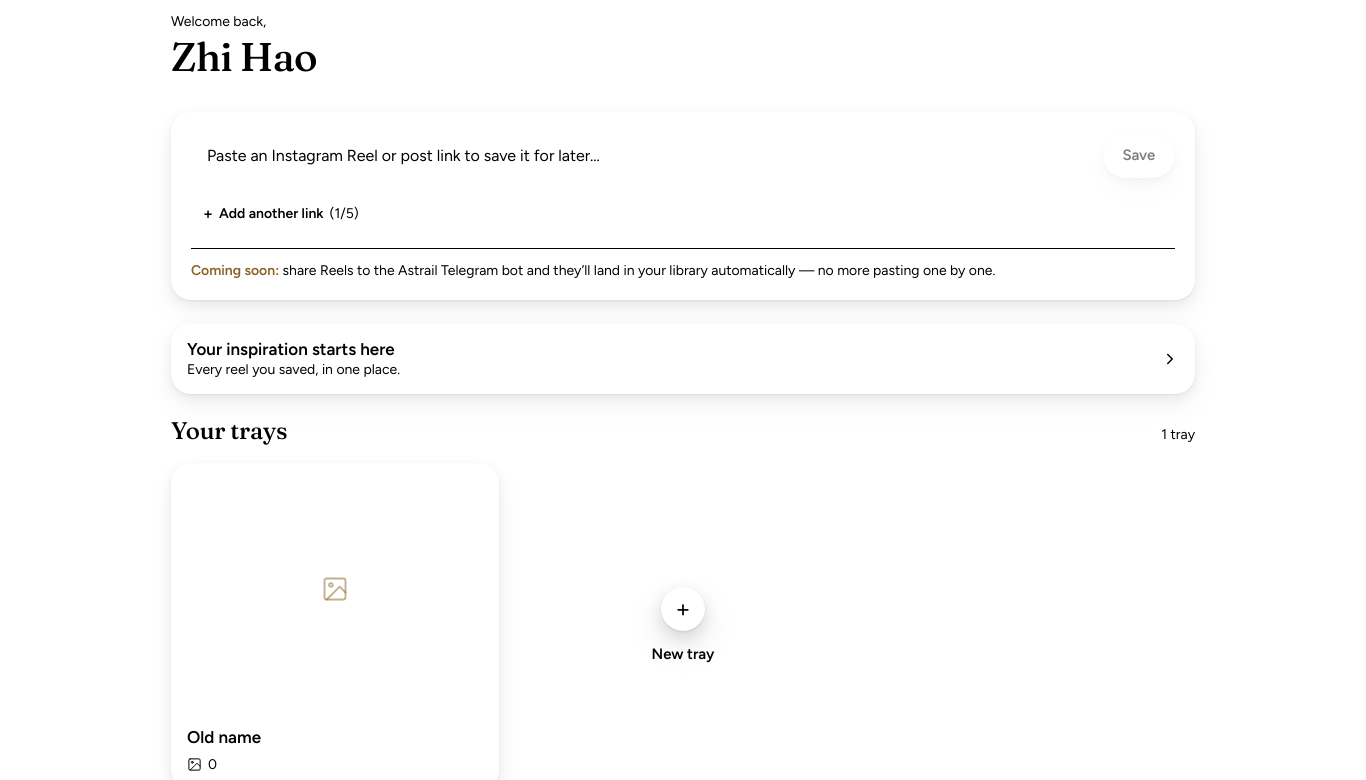
Scenario: TraysScreen › keeps the renamed name when the post-write refresh READ fails (reconciliation is load-bearing, C-new-2)
Click the button "Old name": (224, 737) [183,715,487,759]
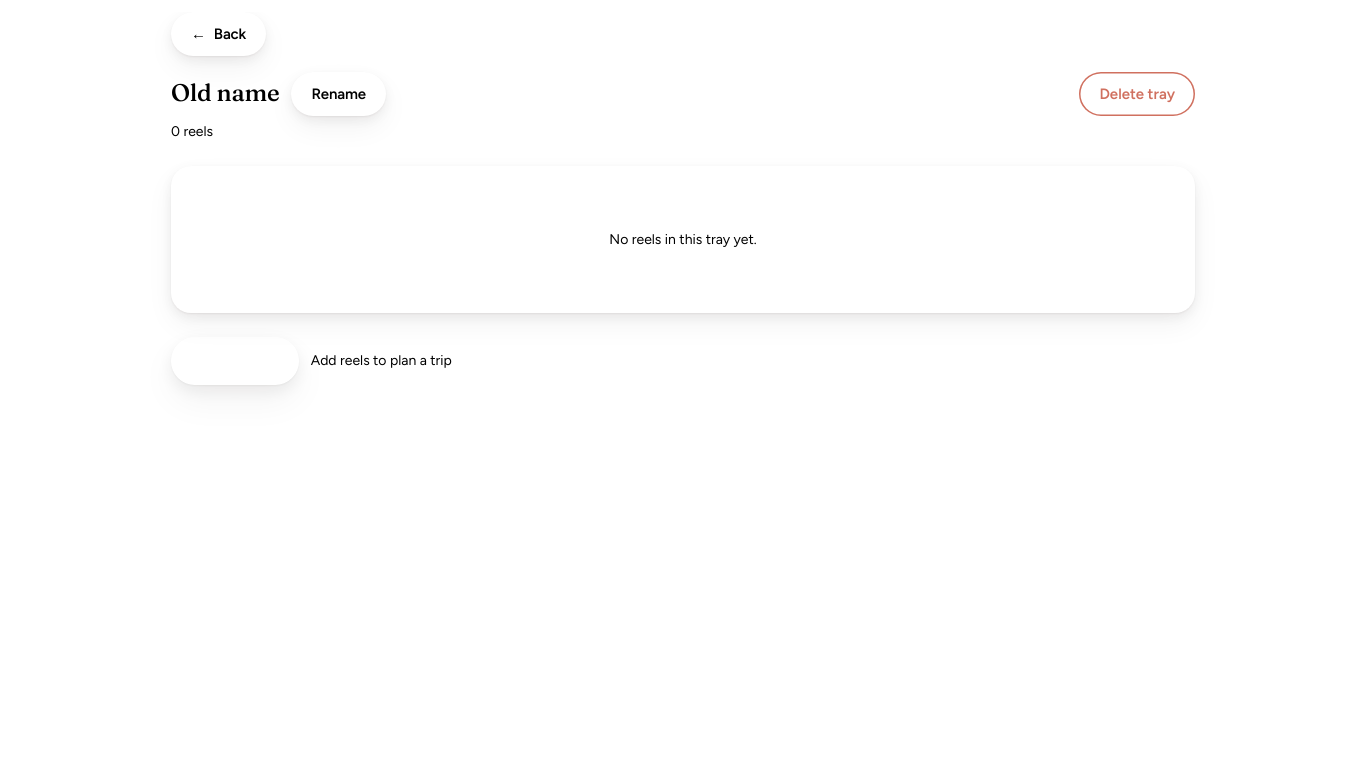
Expected: the heading "Old name" is shown, [171,80,279,108]
Click the button "Rename": (339, 94) [291,72,386,116]
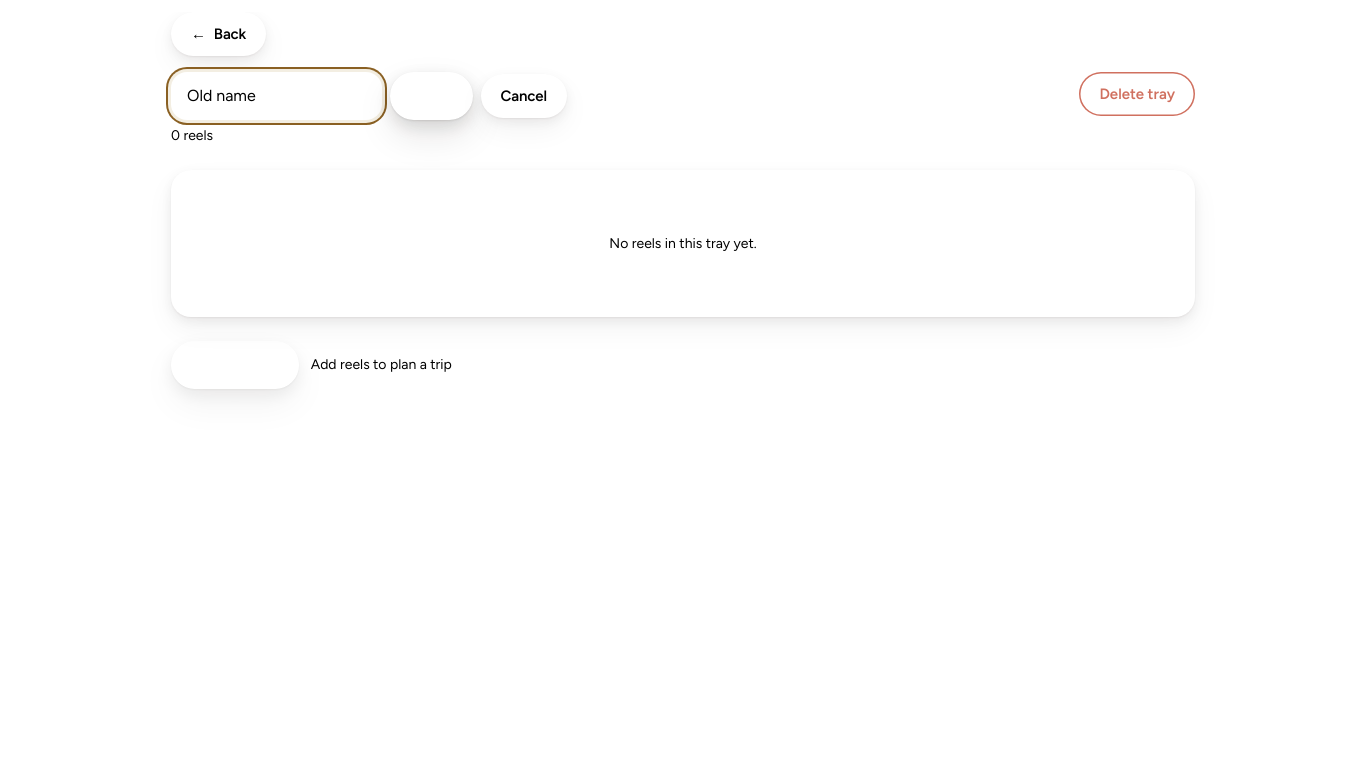
Replace the text in the field named "tray name" with "New name": (276, 96) [171,72,382,120]
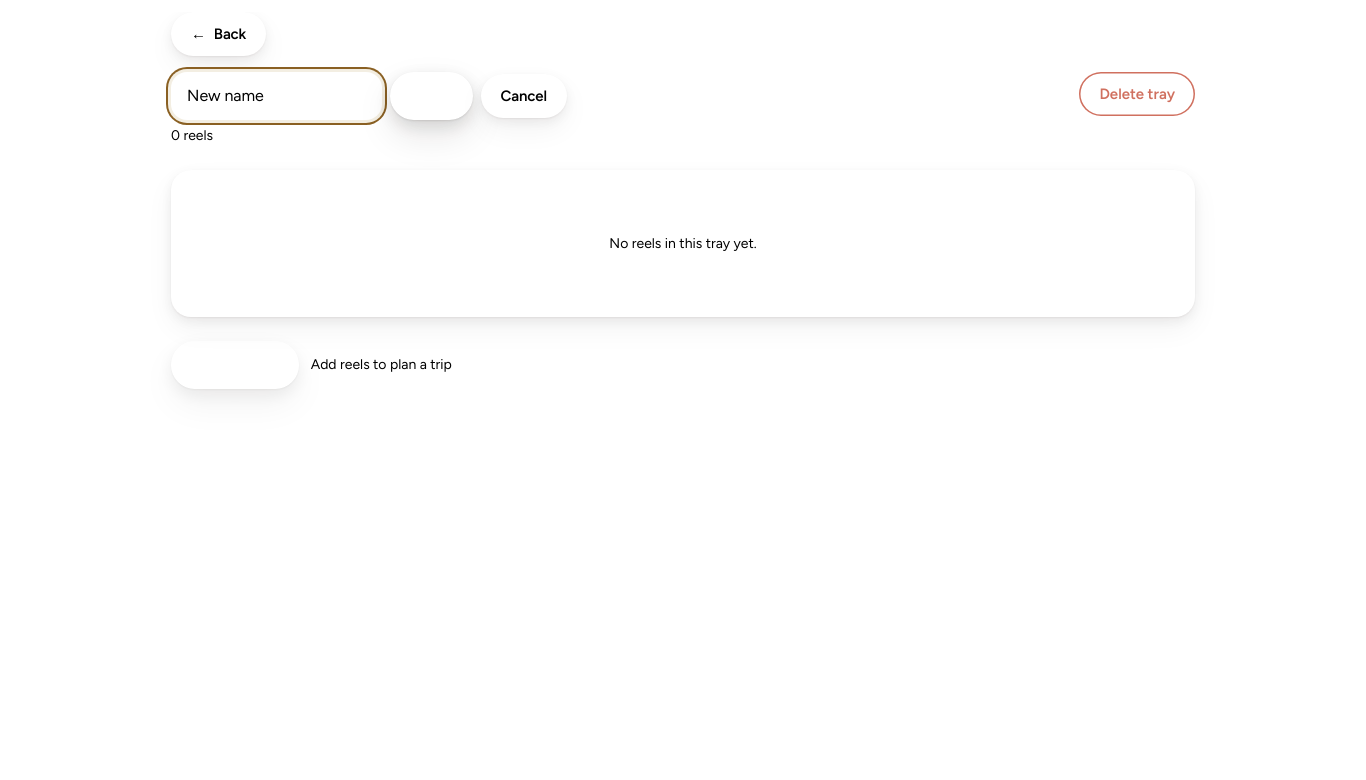
Click the button "Save": (431, 96) [390,72,473,120]
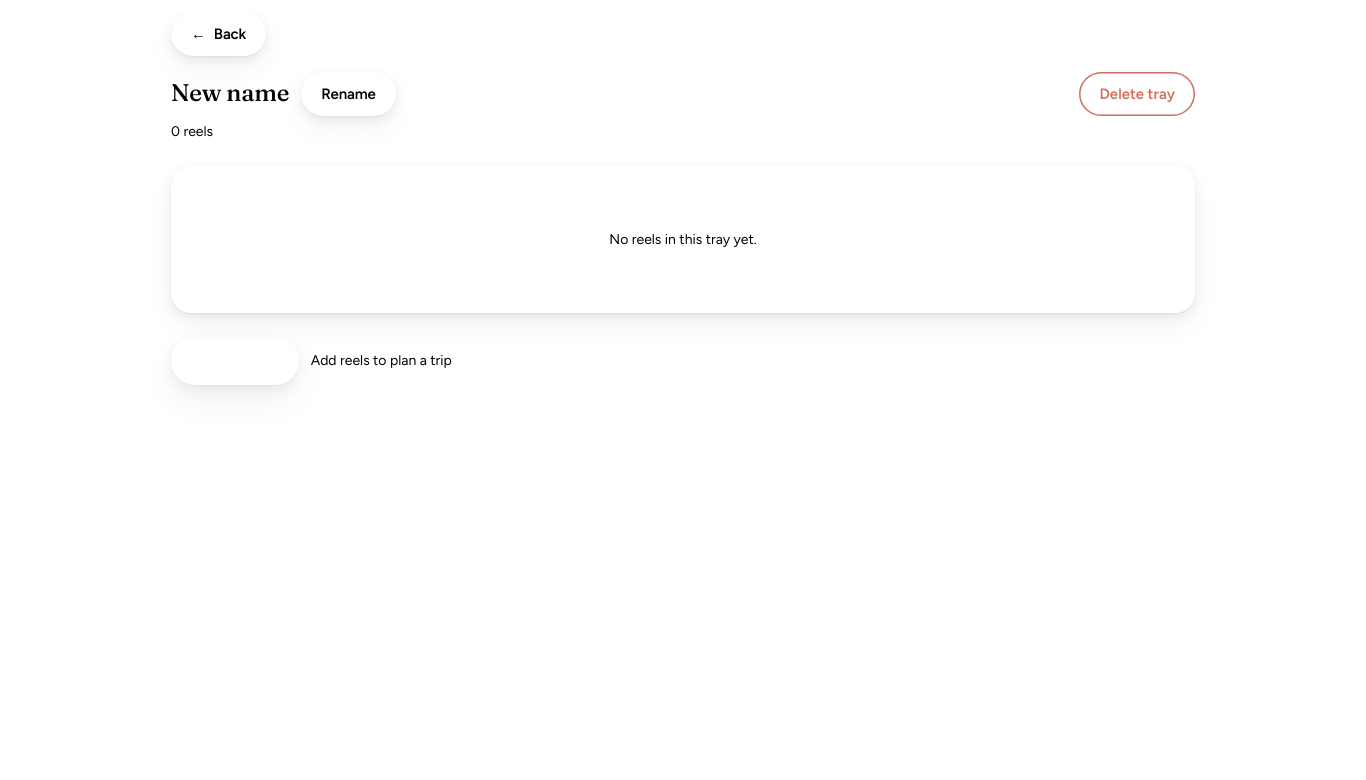
Expected: the heading "New name" is shown, [171,80,289,108]
